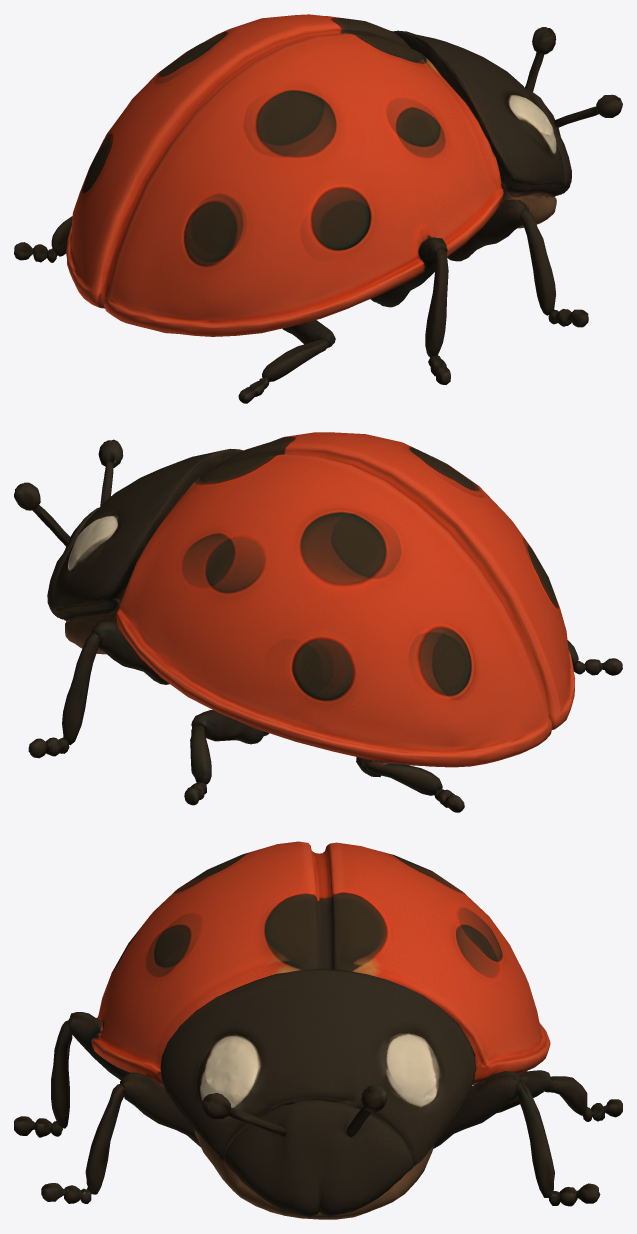
Rendered from mem_ac_ladybug.fbx.
3 views of the same model, one above another, from view 1: azimuth 30°, elevation 25°; view 2: azimuth 150°, elevation 25°; view 3: azimuth 270°, elevation 25° (orthographic). The views are drawn at different scales.
Parts seen in each view (by area): view 1: tripo_node_92c43368; view 2: tripo_node_92c43368; view 3: tripo_node_92c43368.
Boxes of the visible parts, left/top/right/bottom form: tripo_node_92c43368: left=14, top=14, right=622, bottom=403; tripo_node_92c43368: left=14, top=432, right=622, bottom=812; tripo_node_92c43368: left=14, top=841, right=622, bottom=1219.
Size of the model in its own units: 0.998 by 0.4902 by 0.998.
